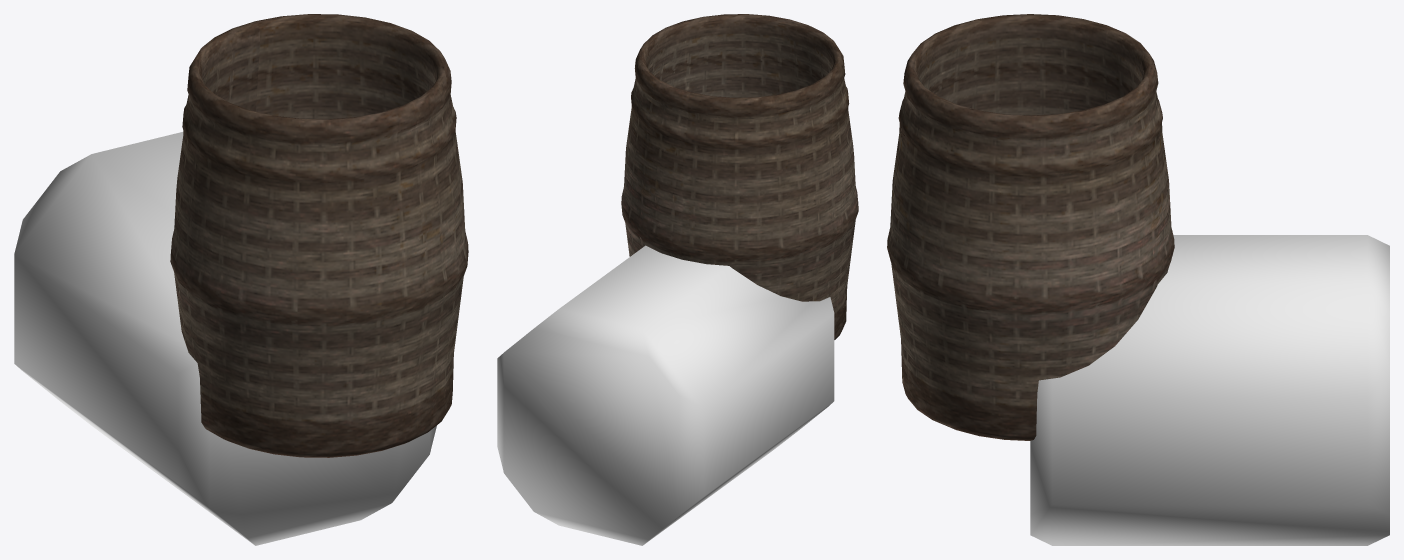
File: SM_WickerBasket_B.fbx
3 views of the same model, side by side, from view 1: azimuth 30°, elevation 25°; view 2: azimuth 150°, elevation 25°; view 3: azimuth 270°, elevation 25° (orthographic). The views are drawn at different scales.
Parts seen in each view (by area): view 1: SM_WickerBasket_B, SM_WickerBasket_B_ConvexHulls; view 2: SM_WickerBasket_B_ConvexHulls, SM_WickerBasket_B; view 3: SM_WickerBasket_B, SM_WickerBasket_B_ConvexHulls.
Boxes of the visible parts, x1,y1,x2,y2 form: SM_WickerBasket_B: (170, 14, 468, 457); SM_WickerBasket_B_ConvexHulls: (14, 132, 436, 545); SM_WickerBasket_B_ConvexHulls: (497, 245, 834, 545); SM_WickerBasket_B: (621, 14, 858, 339); SM_WickerBasket_B: (887, 14, 1174, 440); SM_WickerBasket_B_ConvexHulls: (1030, 235, 1389, 545).
Size of the model in its own units: 0.6409 by 1.12 by 1.12.
